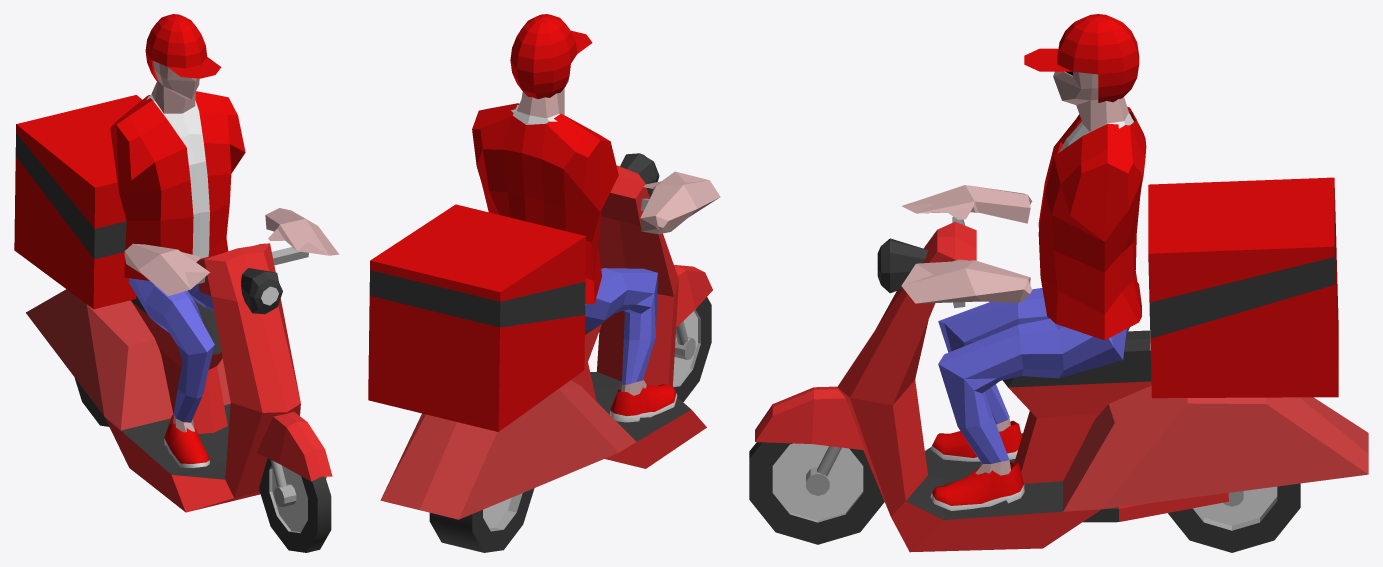
File: Char_Main_Block.fbx
The picture shows the model from 3 angles, left to right: view 1: azimuth 30°, elevation 25°; view 2: azimuth 150°, elevation 25°; view 3: azimuth 270°, elevation 25°; orthographic projection. The views are drawn at different scales.
Visible parts, largest first — view 1: moped_frame, deliverybox, Character_main, jacket, wheel_front, mud_geard, helmet, light, shoes, helmet_front, wheel_back; view 2: deliverybox, moped_frame, jacket, Character_main, helmet, wheel_back, wheel_front, shoes, mud_geard, light; view 3: moped_frame, deliverybox, Character_main, jacket, wheel_front, wheel_back, helmet, mud_geard, shoes, light, helmet_front.
Part boxes in pixels (x1,y1,x2,y2): moped_frame: (26,243,326,512); deliverybox: (14,95,142,309); Character_main: (124,61,339,432); jacket: (110,91,245,280); wheel_front: (259,458,331,552); mud_geard: (256,411,332,481); helmet: (145,14,207,84); light: (241,268,282,314); shoes: (164,414,209,467); helmet_front: (167,57,221,78); wheel_back: (75,378,109,426); deliverybox: (368,204,585,431); moped_frame: (380,165,706,519); jacket: (472,103,618,303); Character_main: (511,78,720,395); helmet: (510,14,577,98); wheel_back: (429,488,534,552); wheel_front: (672,297,711,402); shoes: (610,383,677,422); mud_geard: (674,265,712,327); light: (620,153,659,197); moped_frame: (837,216,1368,552); deliverybox: (1148,177,1338,398); Character_main: (901,71,1133,475); jacket: (1038,107,1146,340); wheel_front: (749,442,884,544); wheel_back: (1168,483,1300,552); helmet: (1057,14,1139,102); mud_geard: (755,386,864,450); shoes: (930,420,1024,510); light: (877,238,928,293); helmet_front: (1024,48,1072,71).
Bounding box in the file's own units: 0.6828 × 1.62 × 1.73.
